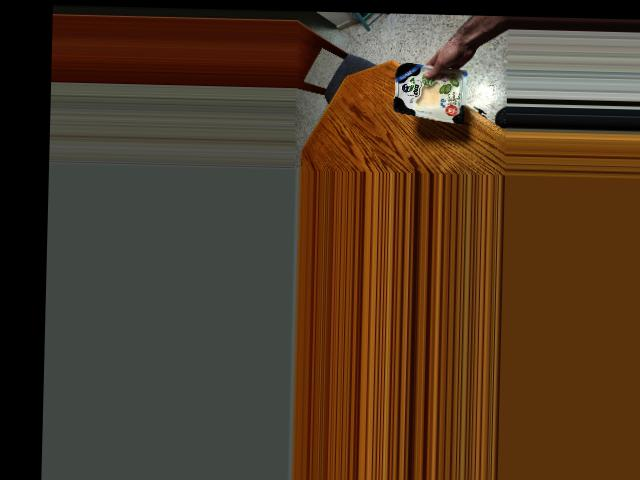cheese: (383, 59, 475, 124)
